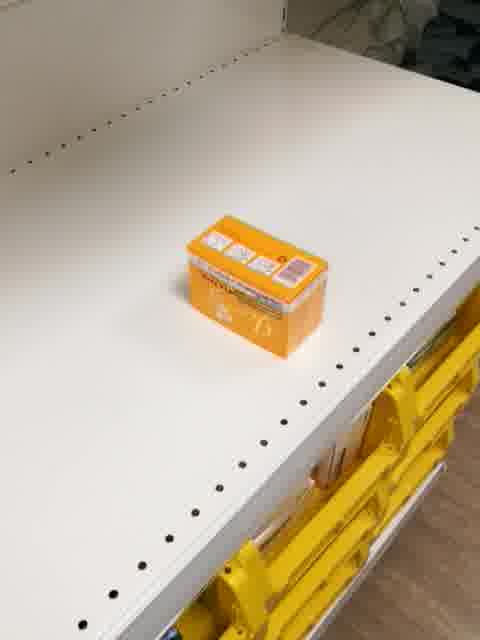jasminetea: (184, 211, 328, 360)
